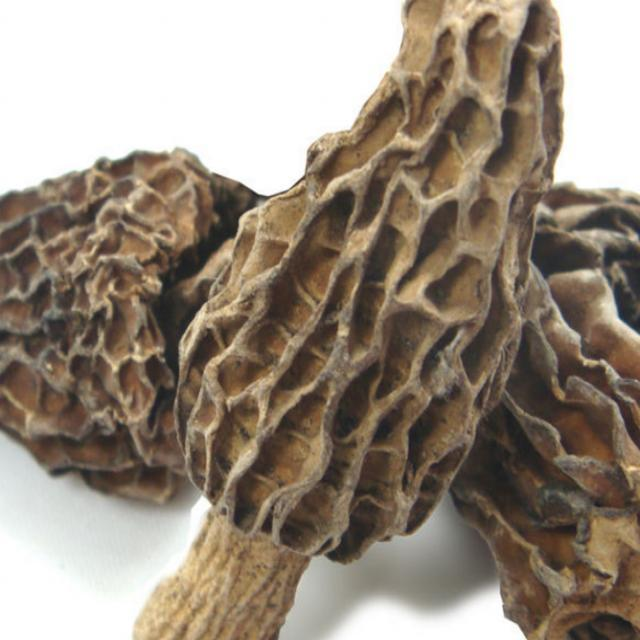Morchella esculenta: (136, 0, 561, 640), (0, 150, 200, 502)
